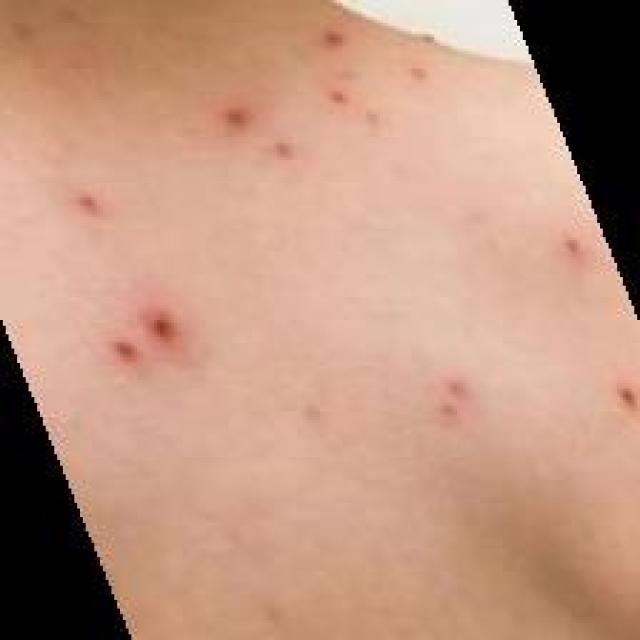monkeypox: (50, 11, 640, 568)
